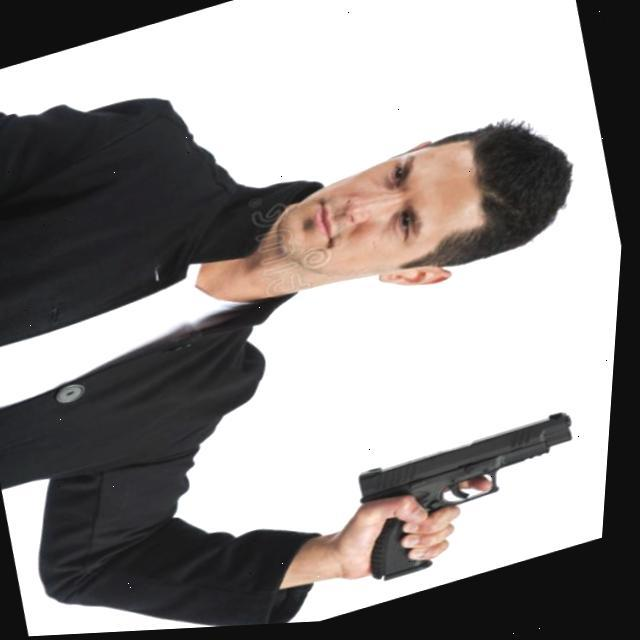gun: (359, 415, 604, 591)
